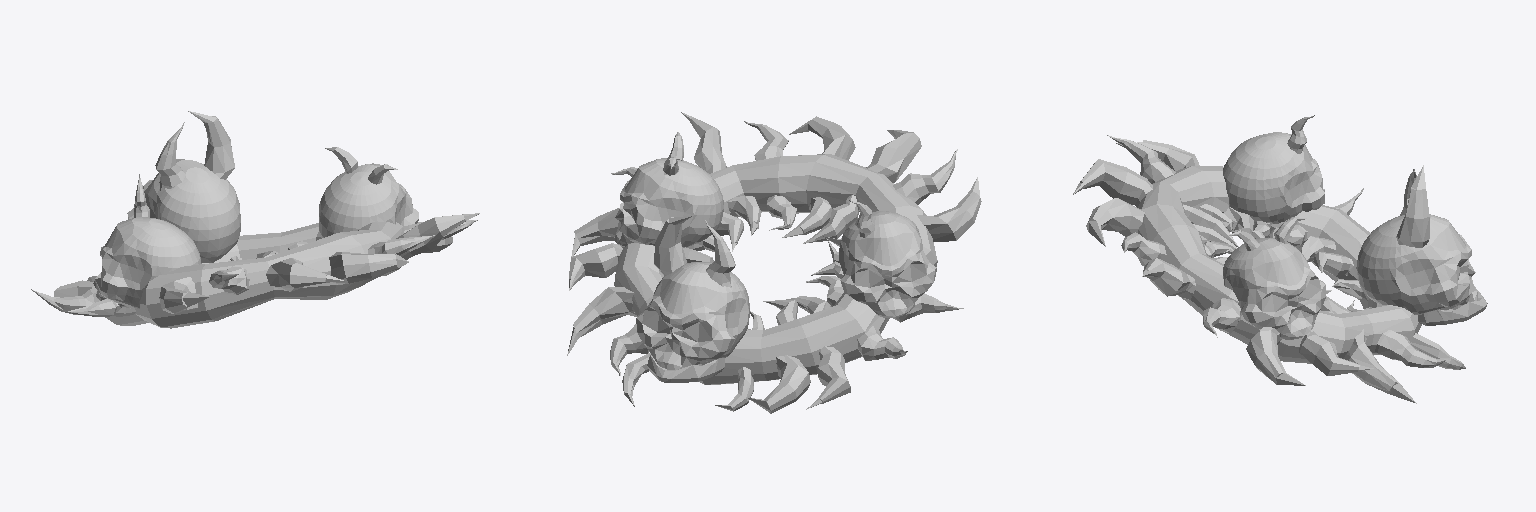
The model's file is CentipedeBoss_1.obj.
3 views of the same model, side by side, from view 1: azimuth 30°, elevation 25°; view 2: azimuth 150°, elevation 25°; view 3: azimuth 270°, elevation 25° (orthographic).
Parts seen in each view (by area): view 1: Torus.001, Sphere.009_Sphere.002, Sphere.011_Sphere.004, Sphere.010_Sphere.003; view 2: Torus.001, Sphere.009_Sphere.002, Sphere.011_Sphere.004, Sphere.010_Sphere.003, Cube.059_Cube.008; view 3: Torus.001, Sphere.009_Sphere.002, Sphere.010_Sphere.003, Sphere.011_Sphere.004, Cube.059_Cube.008.
Part boxes in pixels (x1,y1,x2,y2): Torus.001: (31, 213, 479, 328); Sphere.009_Sphere.002: (127, 111, 240, 262); Sphere.011_Sphere.004: (93, 174, 201, 308); Sphere.010_Sphere.003: (319, 147, 418, 237); Torus.001: (567, 112, 981, 413); Sphere.009_Sphere.002: (636, 216, 749, 369); Sphere.011_Sphere.004: (839, 200, 936, 317); Sphere.010_Sphere.003: (615, 132, 723, 247); Cube.059_Cube.008: (647, 354, 724, 382); Torus.001: (1073, 135, 1465, 403); Sphere.009_Sphere.002: (1356, 165, 1477, 314); Sphere.010_Sphere.003: (1223, 217, 1325, 339); Sphere.011_Sphere.004: (1223, 115, 1324, 223); Cube.059_Cube.008: (1418, 286, 1487, 325).
Bounding box in the file's own units: 19.97 × 9.15 × 18.44.